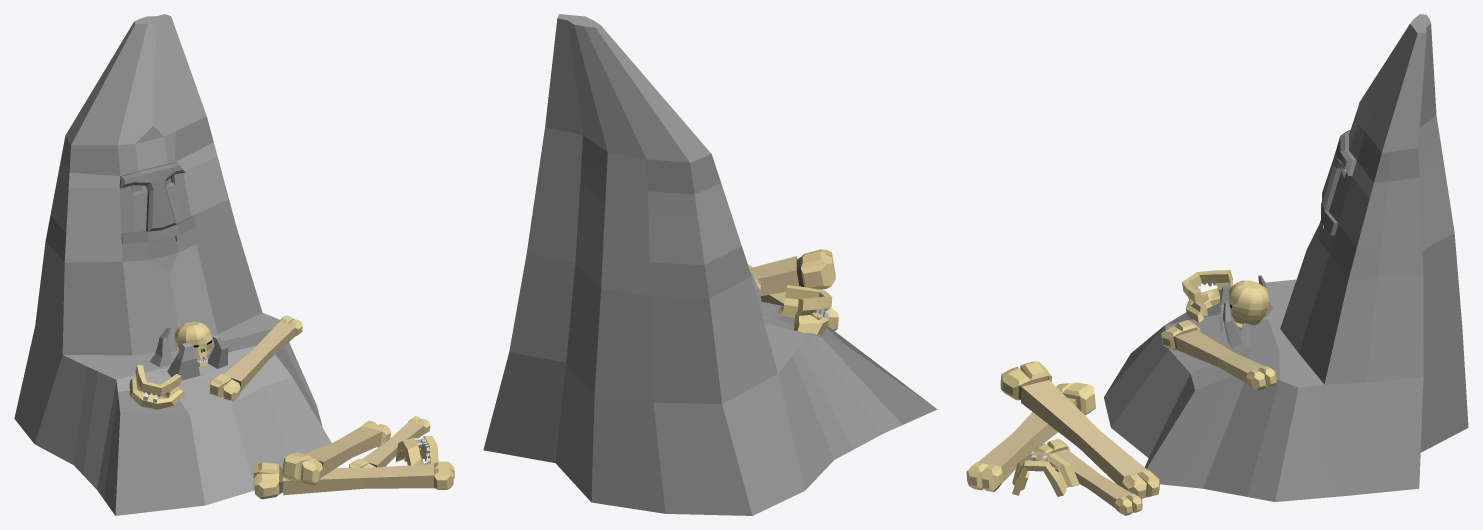
Rendered from rocasEsqueletic2.fbx.
3 renders of one model, left to right at view 1: azimuth 30°, elevation 25°; view 2: azimuth 150°, elevation 25°; view 3: azimuth 270°, elevation 25°, orthographic. The views are drawn at different scales.
Parts seen in each view (by area): view 1: Roca_Extrana_5, Hueso14, Hueso15, Hueso21, Cabeza_Parte_Abajo6, Hueso16, Cabeza_Entera5, Cabeza_Parte_Abajo4; view 2: Roca_Extrana_5, Hueso15, Cabeza_Parte_Abajo6; view 3: Roca_Extrana_5, Hueso15, Hueso14, Hueso21, Hueso16, Cabeza_Parte_Abajo4, Cabeza_Parte_Abajo6, Cabeza_Entera5.
Part boxes in pixels (x1,y1,x2,y2): Roca_Extrana_5: (14,14,331,515); Hueso14: (253,461,454,499); Hueso15: (282,420,390,484); Hueso21: (209,315,302,401); Cabeza_Parte_Abajo6: (129,365,184,409); Hueso16: (349,416,430,467); Cabeza_Entera5: (174,321,212,366); Cabeza_Parte_Abajo4: (396,436,438,465); Roca_Extrana_5: (483,14,937,515); Hueso15: (749,249,835,295); Cabeza_Parte_Abajo6: (777,285,832,334); Roca_Extrana_5: (1104,14,1468,501); Hueso15: (1000,361,1159,498); Hueso14: (966,382,1095,492); Hueso21: (1161,320,1277,390); Hueso16: (1034,438,1142,515); Cabeza_Parte_Abajo4: (1012,452,1079,496); Cabeza_Parte_Abajo6: (1182,270,1232,322); Cabeza_Entera5: (1228,280,1269,331).
Size of the model in its own units: 2.48 by 2.78 by 3.
